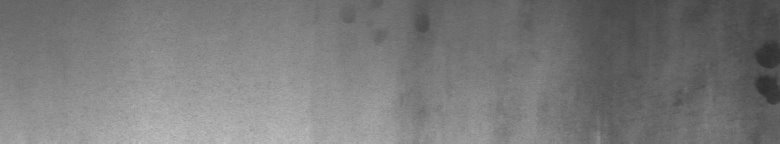fi: (669, 33, 776, 112)
